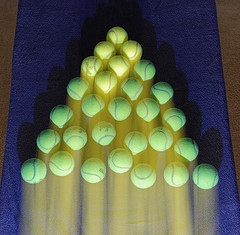tennis ball: (158, 106, 188, 132), (162, 161, 190, 188), (20, 158, 48, 185), (62, 123, 89, 151), (35, 128, 63, 155), (190, 164, 219, 190), (80, 156, 107, 183), (49, 151, 76, 178), (174, 136, 201, 163), (48, 102, 75, 129), (92, 71, 121, 96), (65, 75, 94, 100), (130, 163, 157, 189), (123, 131, 150, 157), (107, 96, 133, 123), (107, 148, 135, 173), (149, 124, 174, 152), (91, 121, 117, 147), (80, 94, 107, 119), (105, 24, 131, 49), (150, 79, 175, 104), (107, 54, 132, 79), (135, 97, 161, 121), (133, 58, 157, 83), (93, 41, 119, 64), (119, 76, 143, 100), (121, 38, 145, 61), (80, 55, 105, 77)
